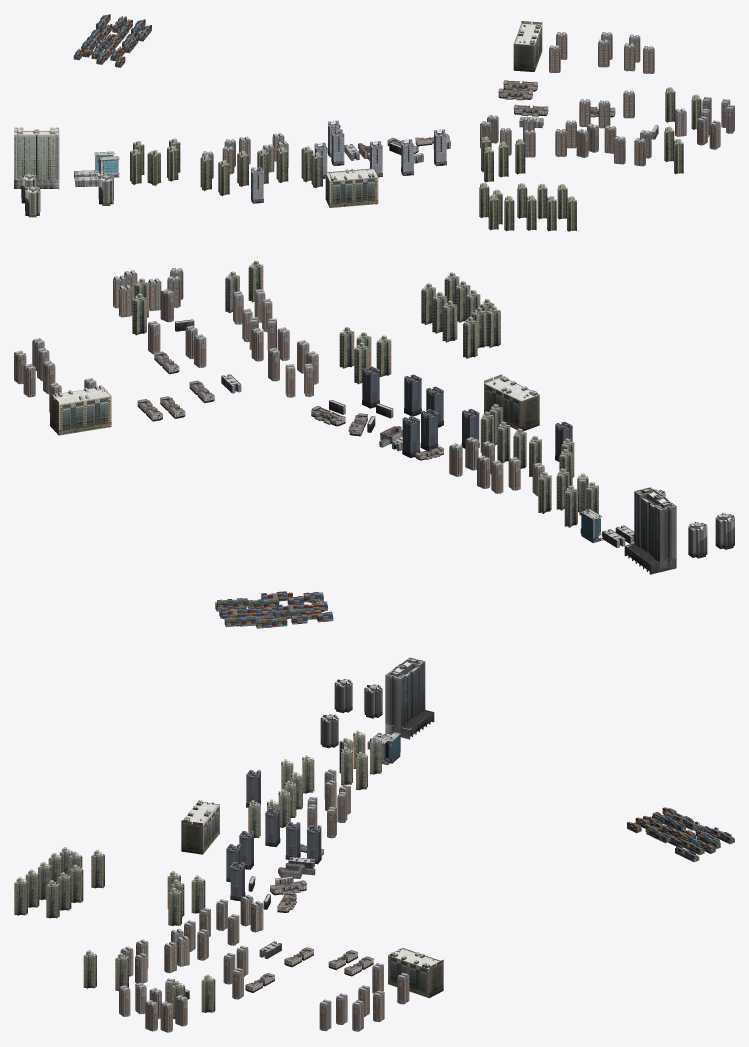
3 views of the same model, one above another, from view 1: azimuth 30°, elevation 25°; view 2: azimuth 150°, elevation 25°; view 3: azimuth 270°, elevation 25° (orthographic). The views are drawn at different scales.
Parts seen in each view (by area): view 1: 3d66-Editable_mesh-20022528-5134, 对象003, 对象003 (1), 对象006, 3d66-Editable_mesh-20022528-5498 (3), 对象008 (2), 对象008, 3d66-Editable_mesh-20022528-5498 (5), 3d66-Editable_mesh-20022528-5498 (2), 3d66-Editable_mesh-20022528-5498 (6), 对象005 (4), 对象005 (7) (+13 smaller); view 2: 3d66-Editable_mesh-20022528-5134, 对象003 (1), 对象003, 3d66-Editable_mesh-20022528-5498 (5), 3d66-Editable_mesh-20022528-5498 (6), 3d66-Editable_mesh-20022528-5498 (1), 对象008 (2), 对象008 (1), 3d66-Editable_mesh-20022528-5498 (3), 对象006, 对象005 (12), 对象005 (25); view 3: 3d66-Editable_mesh-20022528-5134, 对象003 (1), 对象003, 对象008, 对象008 (2), 对象008 (1).
Part boxes in pixels (<box>): 3d66-Editable_mesh-20022528-5134: <box>14,127,59,189</box>; 对象003: <box>325,166,378,207</box>; 对象003 (1): <box>513,21,542,71</box>; 对象006: <box>94,151,119,177</box>; 3d66-Editable_mesh-20022528-5498 (3): <box>331,129,344,165</box>; 对象008 (2): <box>25,185,40,217</box>; 对象008: <box>98,174,113,205</box>; 3d66-Editable_mesh-20022528-5498 (5): <box>401,139,414,175</box>; 3d66-Editable_mesh-20022528-5498 (2): <box>251,166,263,203</box>; 3d66-Editable_mesh-20022528-5498 (6): <box>434,129,446,166</box>; 对象005 (4): <box>147,149,160,185</box>; 对象005 (7): <box>276,147,288,182</box>; 3d66-Editable_mesh-20022528-5134: <box>624,487,676,574</box>; 对象003 (1): <box>50,385,111,435</box>; 对象003: <box>484,374,539,431</box>; 3d66-Editable_mesh-20022528-5498 (5): <box>404,374,421,416</box>; 3d66-Editable_mesh-20022528-5498 (6): <box>362,366,379,408</box>; 3d66-Editable_mesh-20022528-5498 (1): <box>402,415,420,457</box>; 对象008 (2): <box>715,513,734,549</box>; 对象008 (1): <box>688,522,707,558</box>; 3d66-Editable_mesh-20022528-5498 (3): <box>420,409,438,450</box>; 对象006: <box>580,508,603,542</box>; 对象005 (12): <box>442,300,457,342</box>; 对象005 (25): <box>339,327,354,368</box>; 3d66-Editable_mesh-20022528-5134: <box>385,657,434,739</box>; 对象003 (1): <box>388,948,443,998</box>; 对象003: <box>181,800,219,854</box>; 对象008: <box>320,714,338,748</box>; 对象008 (2): <box>334,679,352,713</box>; 对象008 (1): <box>364,684,382,718</box>.
Bounding box in the file's own units: 2086 × 194 × 1943.
Materials: 21 (21 with a texture image).
